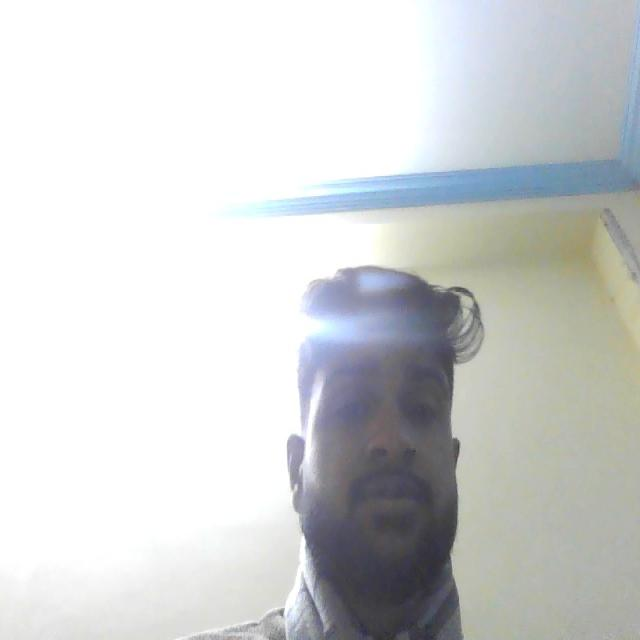real: (281, 225, 482, 606)
